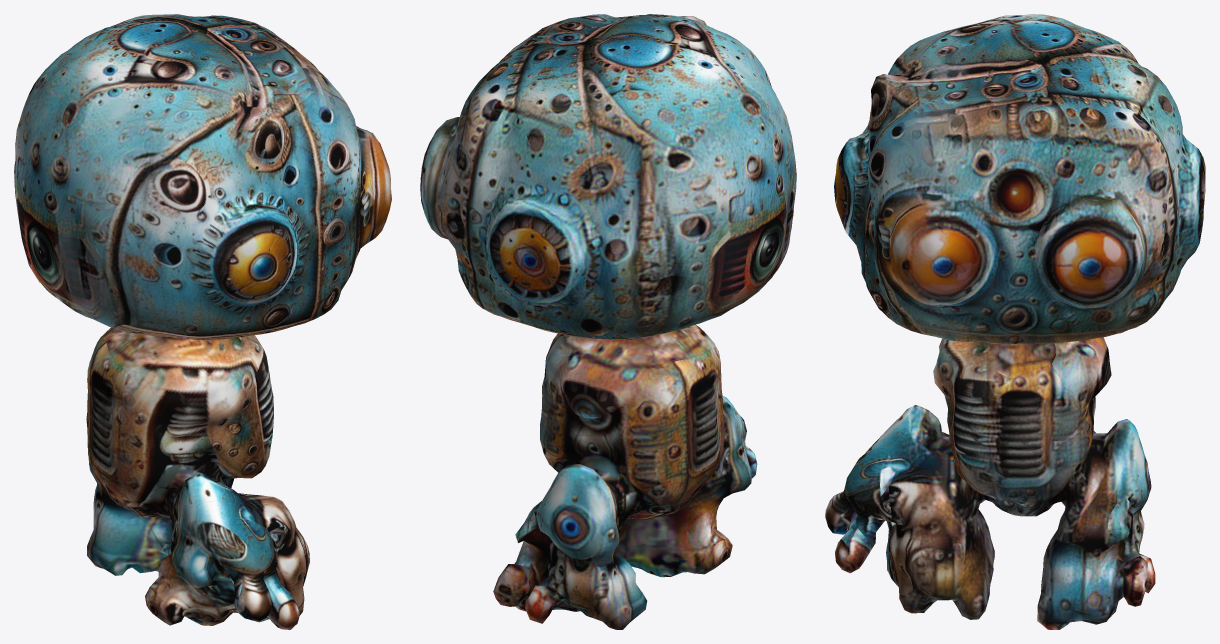
3 renders of one model, left to right at view 1: azimuth 30°, elevation 25°; view 2: azimuth 150°, elevation 25°; view 3: azimuth 270°, elevation 25°, orthographic.
Size of the model in its own units: 0.5627 by 1 by 0.6164.
Materials: 1 (1 with a texture image).
